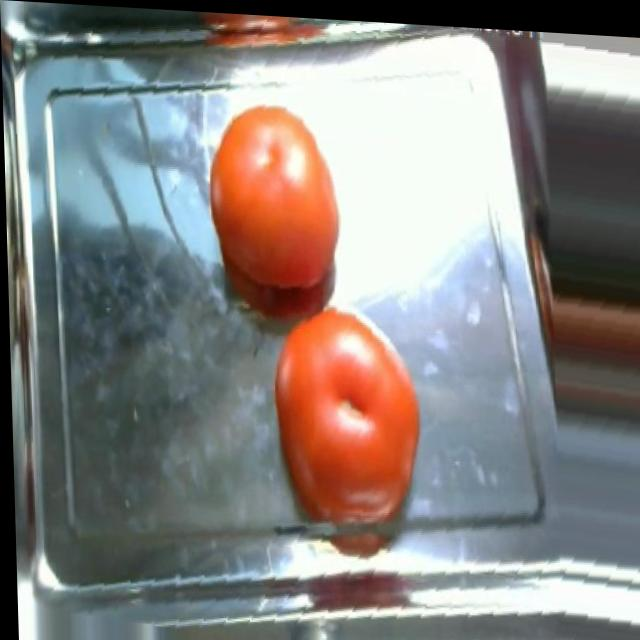kirmizi: (210, 104, 447, 488)
